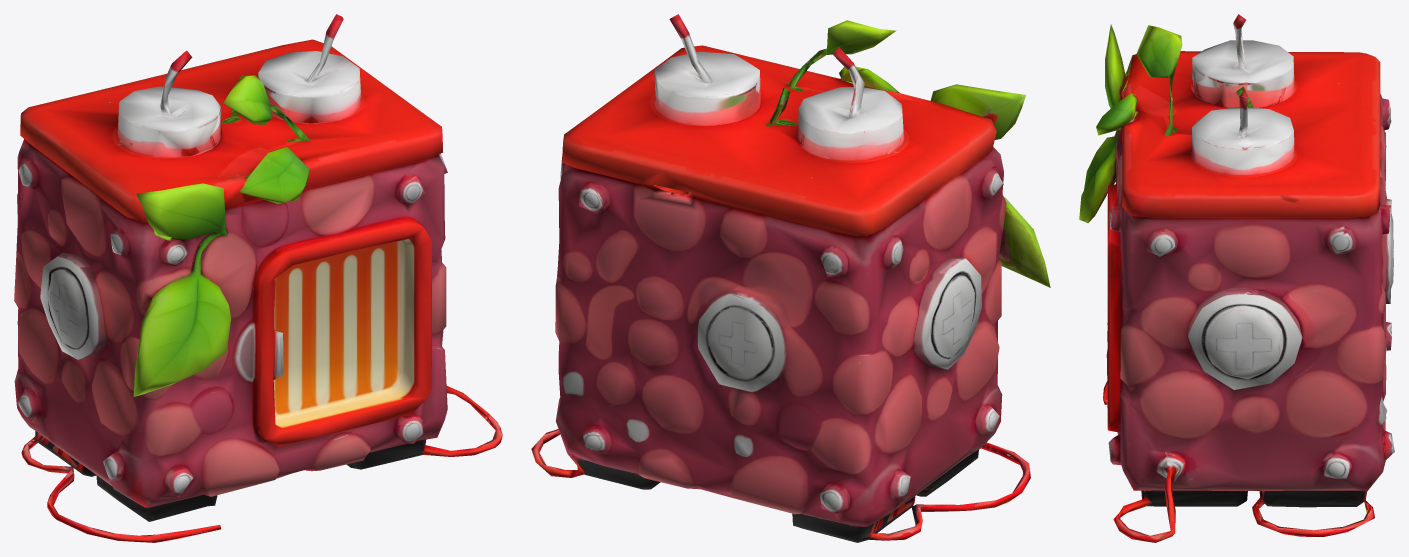
Rendered from Meshy_AI_Eco_Power_Cube_0109124032_texture.fbx.
3 renders of one model, left to right at view 1: azimuth 30°, elevation 25°; view 2: azimuth 150°, elevation 25°; view 3: azimuth 270°, elevation 25°, orthographic. The views are drawn at different scales.
Visible parts, largest first — view 1: Mesh1.0; view 2: Mesh1.0; view 3: Mesh1.0.
Boxes of the visible parts, x1=… form: Mesh1.0: x1=14, y1=14, x2=502, y2=542; Mesh1.0: x1=531, y1=14, x2=1050, y2=542; Mesh1.0: x1=1079, y1=14, x2=1394, y2=542.
Size of the model in its own units: 192 by 181 by 127.
1 material, 1 textured.
